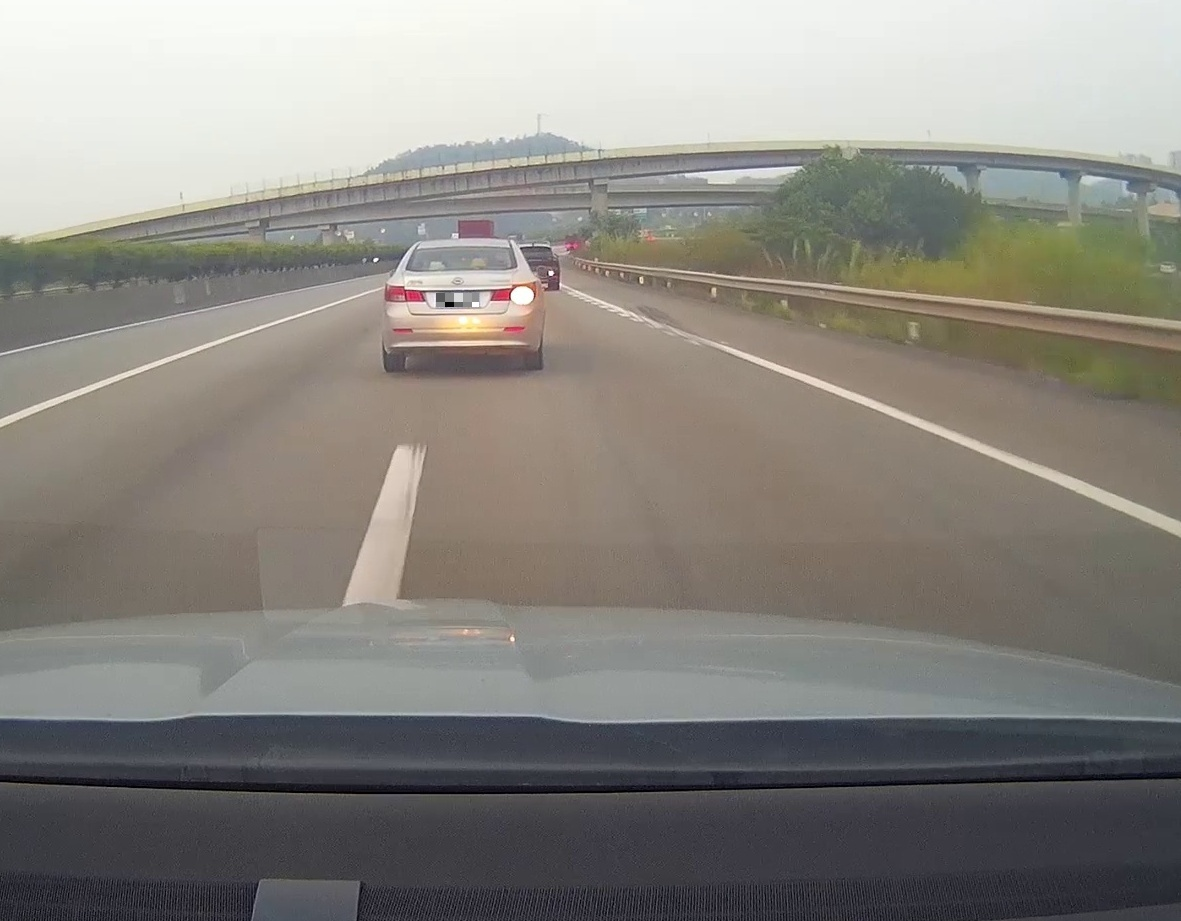L_light: (384, 283, 425, 302)
R_light: (490, 281, 537, 301)
T_light: (452, 245, 469, 248)
day-right: (382, 237, 543, 370)
plate_1: (436, 293, 479, 307)
